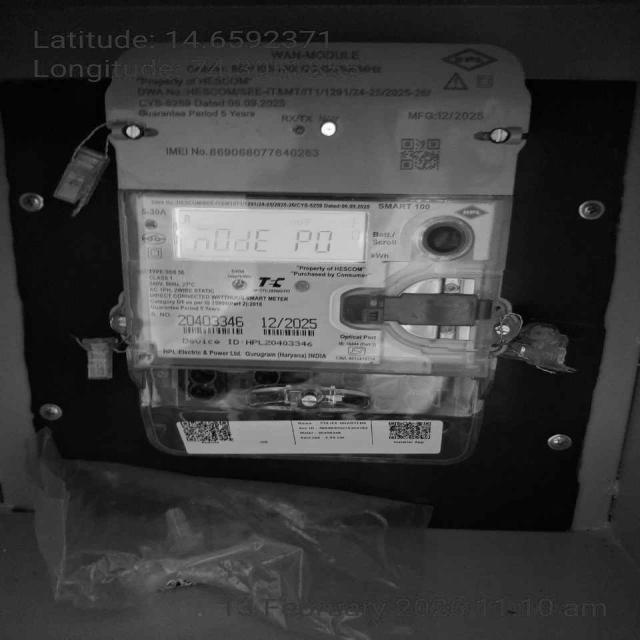meter: (109, 39, 502, 364)
